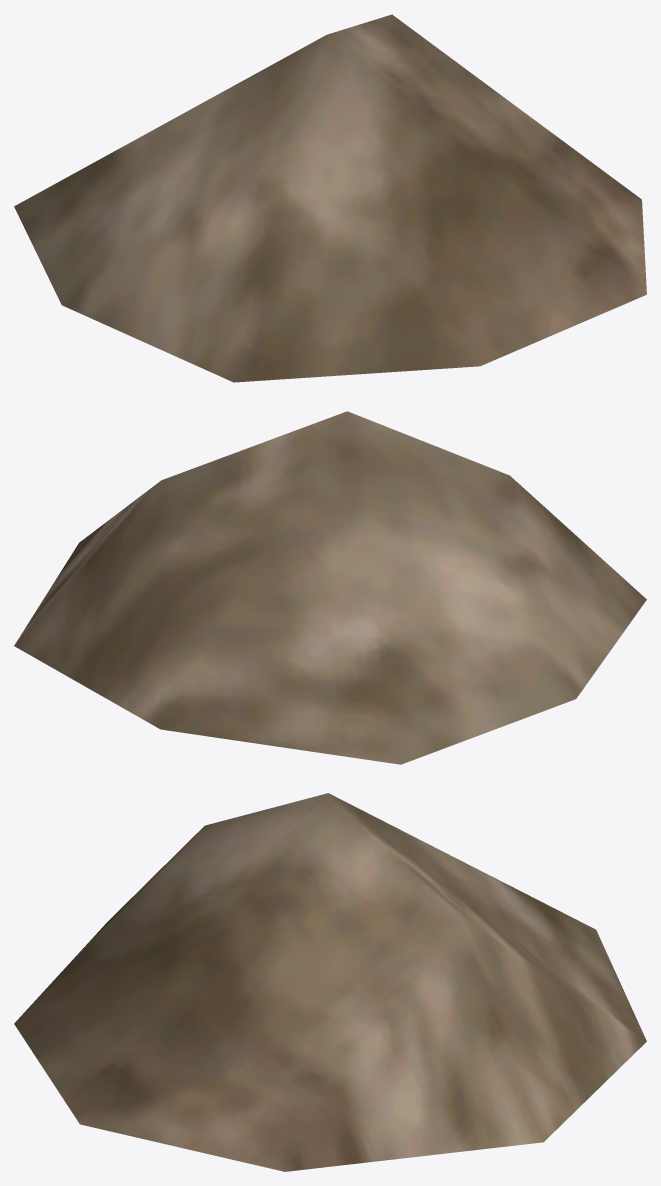
Rendered from OVERHILL_A_01_ROCK60.fbx.
3 renders of one model, top to bottom at view 1: azimuth 30°, elevation 25°; view 2: azimuth 150°, elevation 25°; view 3: azimuth 270°, elevation 25°, orthographic. The views are drawn at different scales.
Parts seen in each view (by area): view 1: OVERHILL_A_01_ROCK60; view 2: OVERHILL_A_01_ROCK60; view 3: OVERHILL_A_01_ROCK60.
Boxes of the visible parts, x1,y1,x2,y2 form: OVERHILL_A_01_ROCK60: (14,14,646,382); OVERHILL_A_01_ROCK60: (14,411,646,764); OVERHILL_A_01_ROCK60: (14,793,646,1171).
Bounding box in the file's own units: 1904 × 741 × 1849.
1 material, 1 textured.
